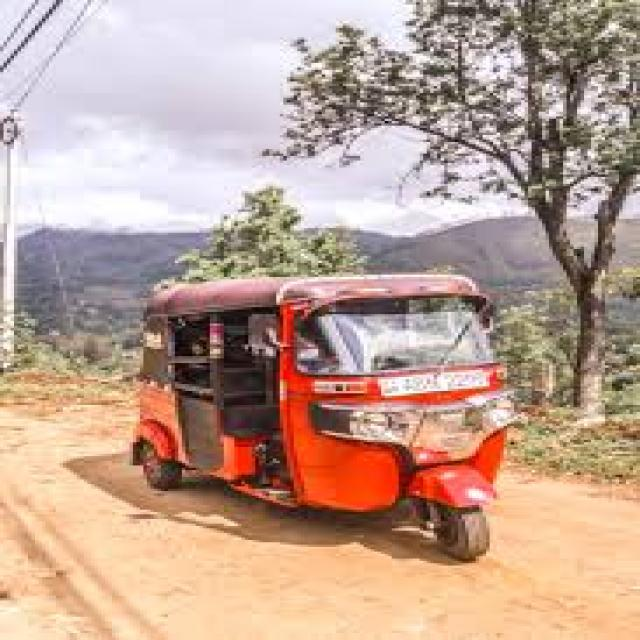tuktuk: (102, 210, 580, 590)
